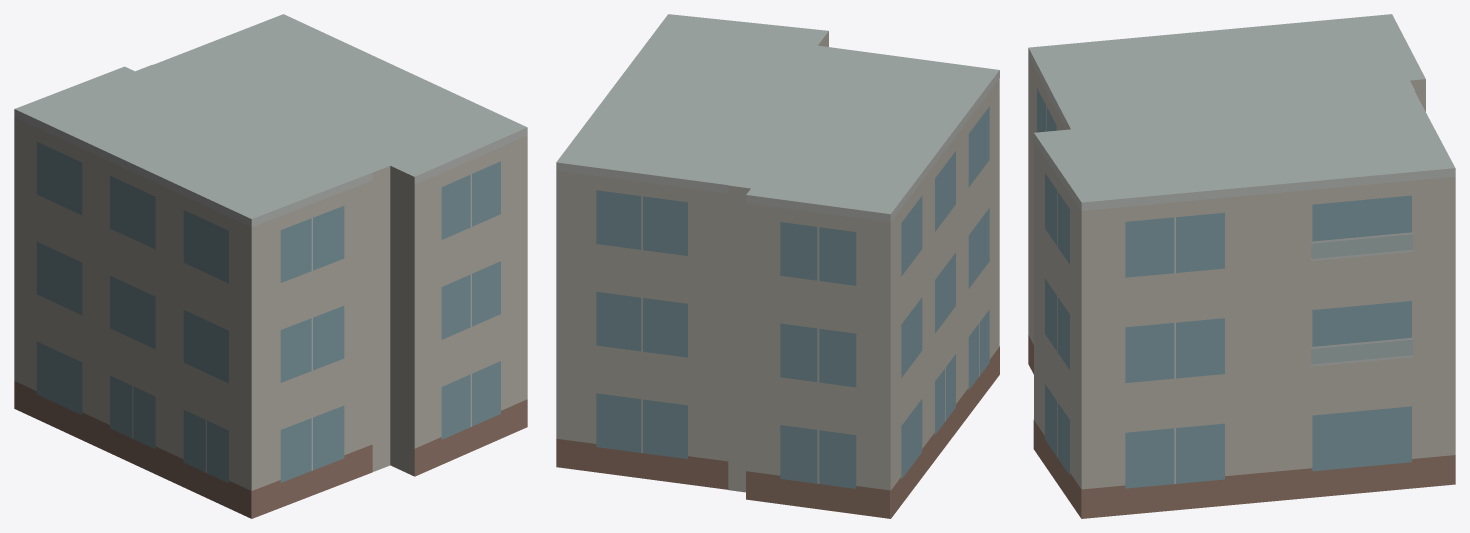
The model's file is survey-upis-32624521.glb.
The picture shows the model from 3 angles, left to right: view 1: azimuth 30°, elevation 25°; view 2: azimuth 150°, elevation 25°; view 3: azimuth 270°, elevation 25°; orthographic projection. The views are drawn at different scales.
Parts seen in each view (by area): view 1: survey-upis-32624521.tmp; view 2: survey-upis-32624521.tmp; view 3: survey-upis-32624521.tmp.
Boxes of the visible parts, <box> form: survey-upis-32624521.tmp: <box>14,14,527,518</box>; survey-upis-32624521.tmp: <box>556,14,999,518</box>; survey-upis-32624521.tmp: <box>1028,14,1455,518</box>.
Size of the model in its own units: 11.71 by 9.15 by 11.21.
